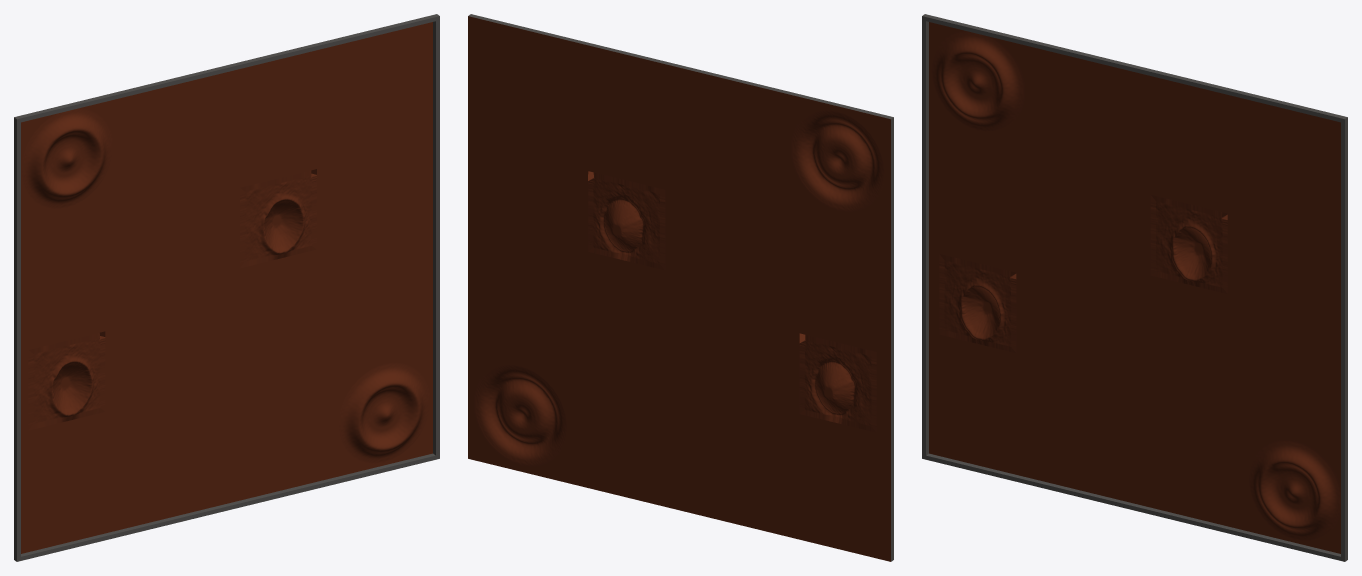
The model's file is mars_terrain.obj.
3 renders of one model, left to right at view 1: azimuth 30°, elevation 25°; view 2: azimuth 150°, elevation 25°; view 3: azimuth 330°, elevation 25°, orthographic.
Visible parts, largest first — view 1: mars_terrain; view 2: mars_terrain; view 3: mars_terrain.
Part boxes in pixels (<box>): mars_terrain: <box>14,14,439,561</box>; mars_terrain: <box>468,14,893,561</box>; mars_terrain: <box>922,14,1347,561</box>.
Size of the model in its own units: 12.8 by 12.8 by 0.5432.
